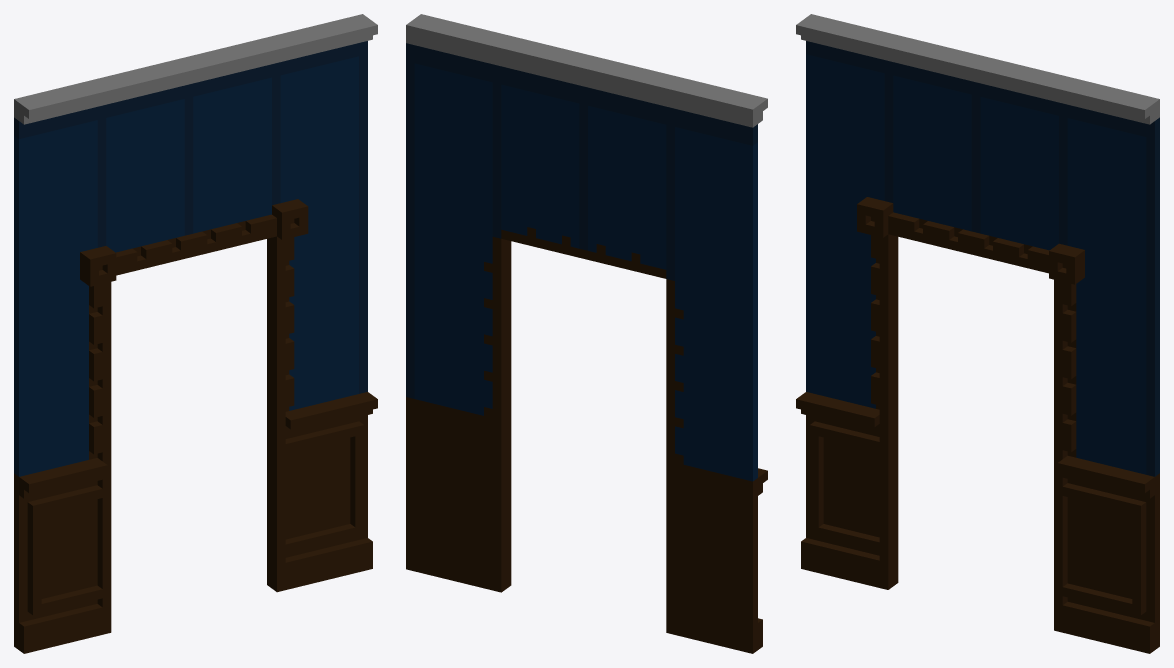
Rendered from wall_porta.obj.
3 views of the same model, side by side, from view 1: azimuth 30°, elevation 25°; view 2: azimuth 150°, elevation 25°; view 3: azimuth 330°, elevation 25° (orthographic).
Parts seen in each view (by area): view 1: wall_porta; view 2: wall_porta; view 3: wall_porta.
Part boxes in pixels (x1=…): wall_porta: x1=14, y1=14, x2=377, y2=653; wall_porta: x1=406, y1=14, x2=767, y2=653; wall_porta: x1=796, y1=14, x2=1159, y2=653.
Bounding box in the file's own units: 40 × 60 × 3.
1 material, 1 textured.
